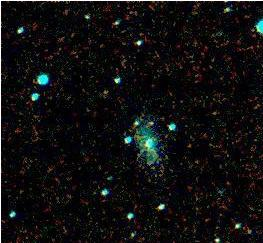star: (138, 107, 168, 137)
